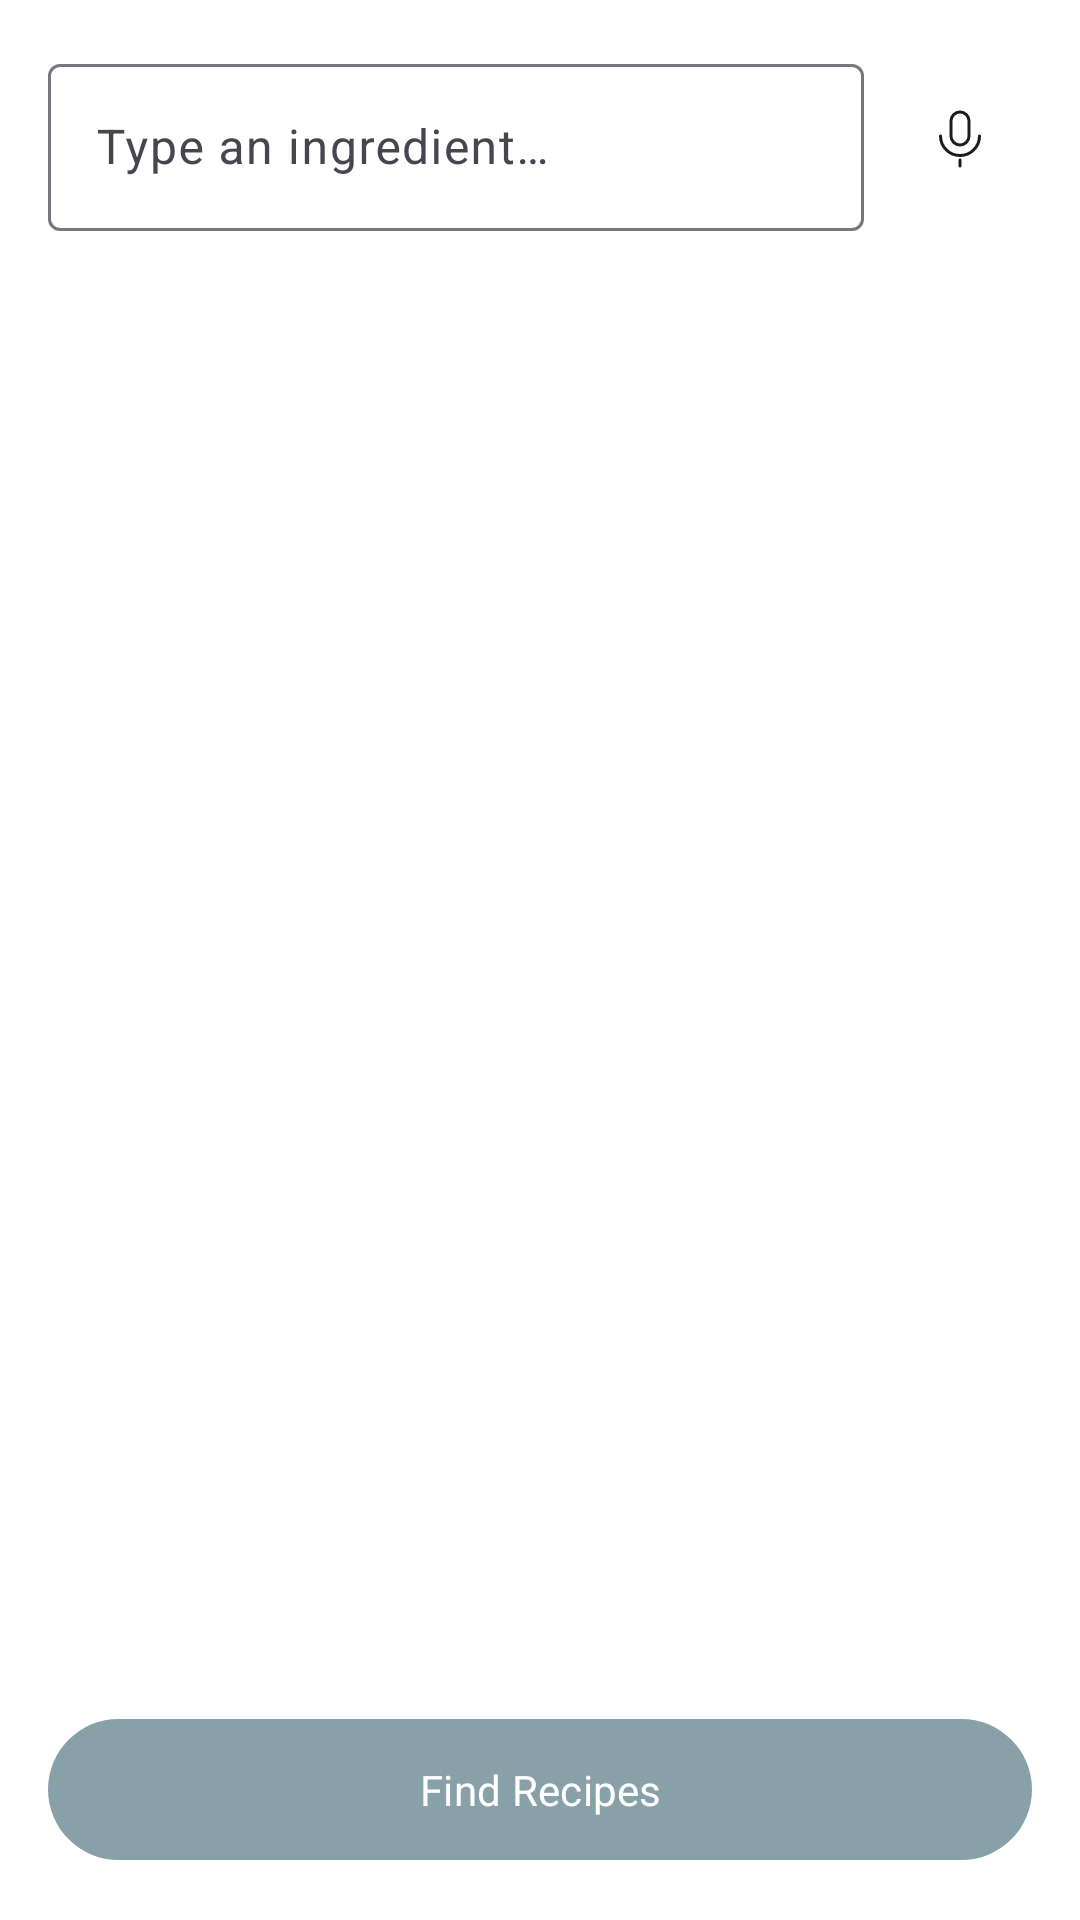

Icon bounding boxes for this 1080px x 1920px phone screenshot, format [x1,y1,x2,y2]:
mic: [939,110,981,168]
